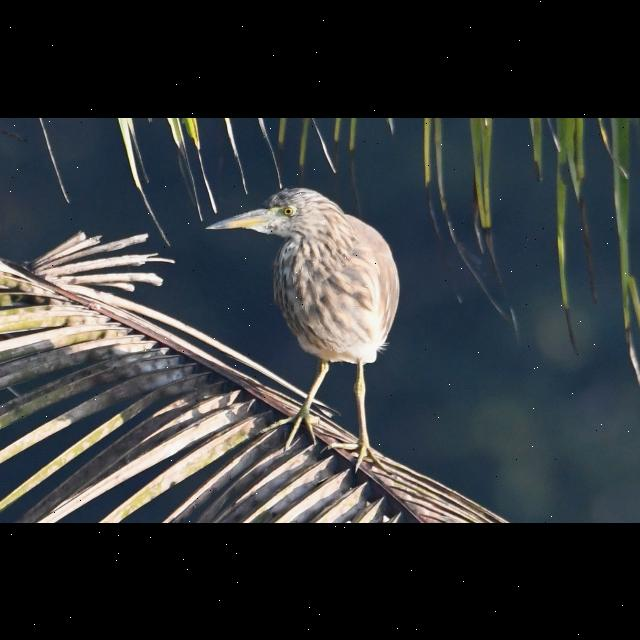heron: (198, 180, 404, 460)
